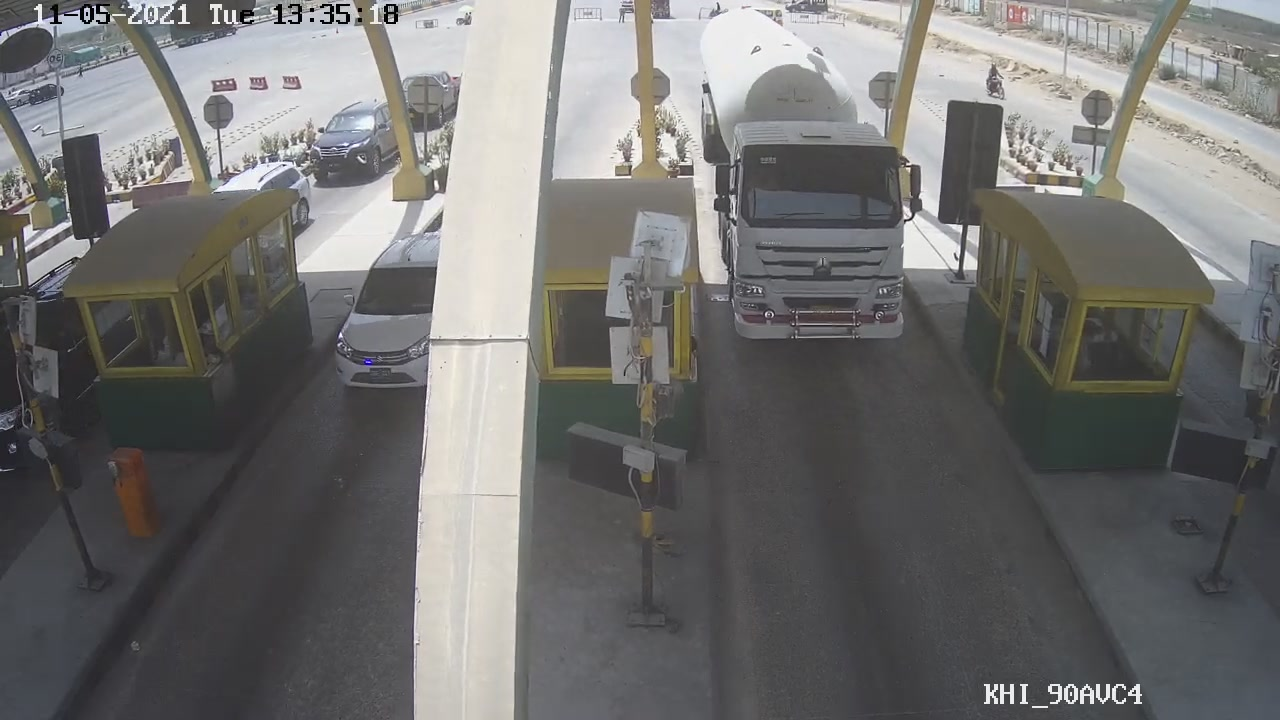F6: (690, 2, 920, 354)
